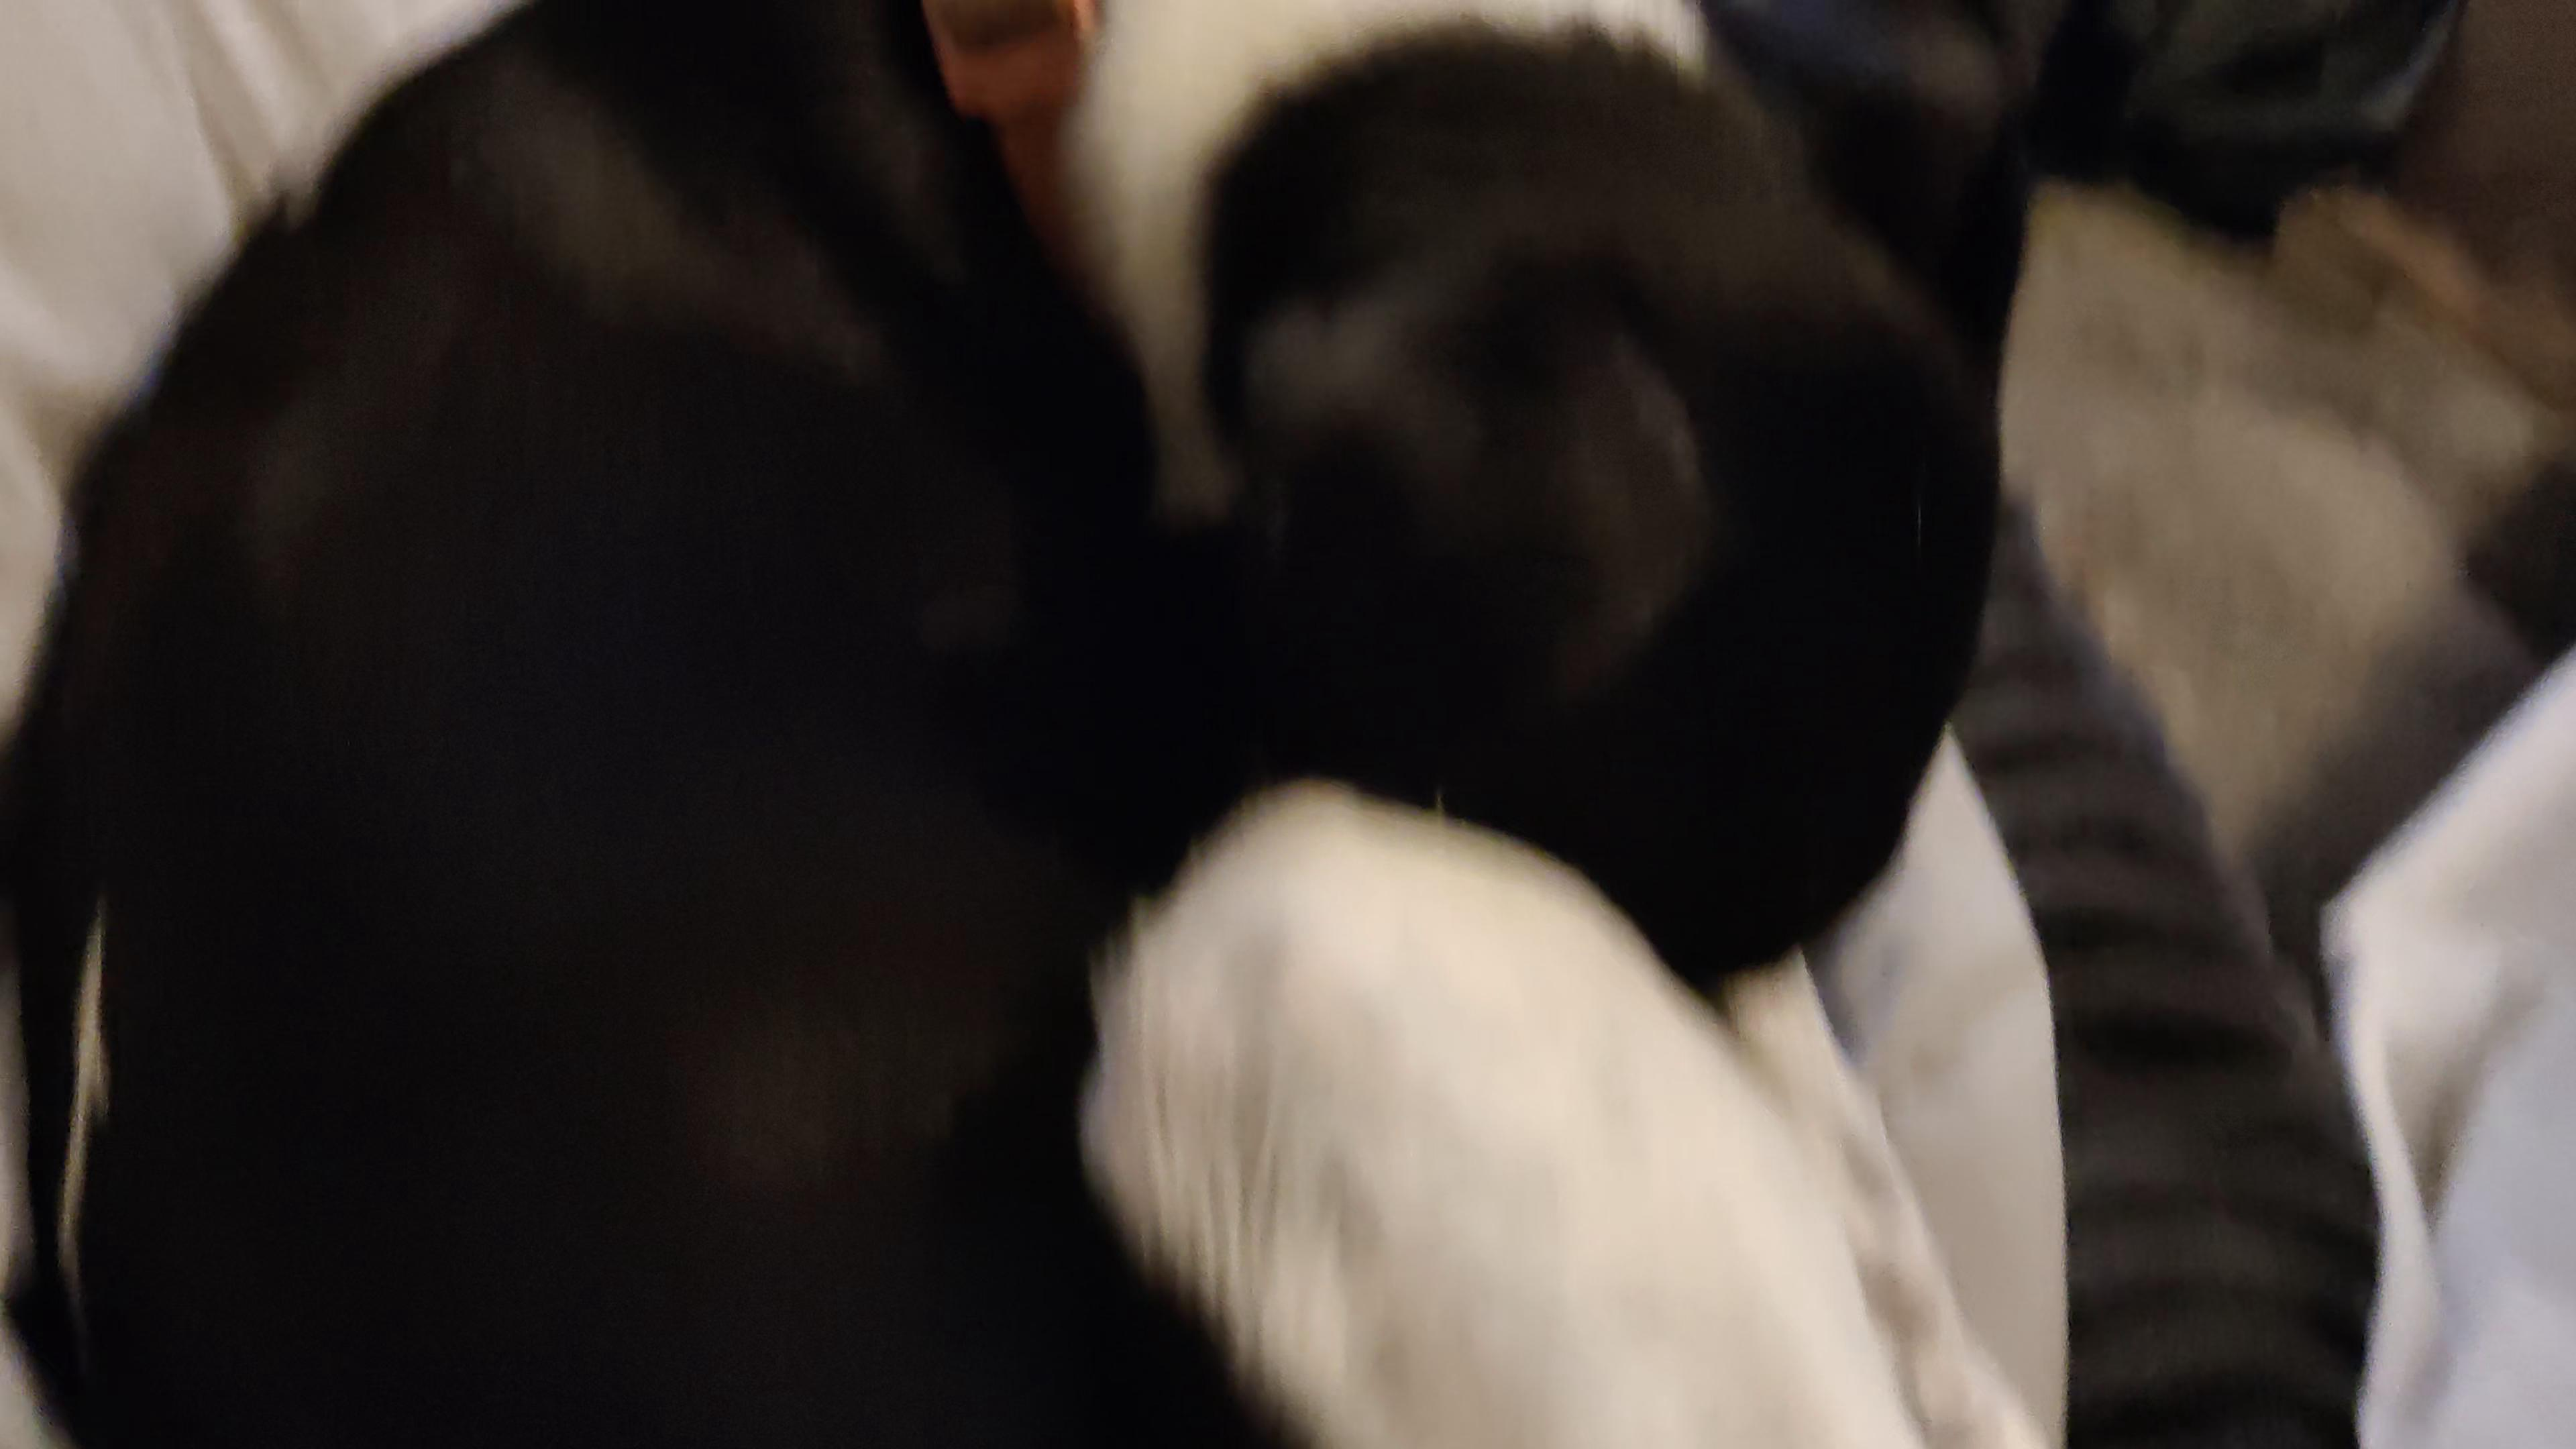Dog: (0, 0, 2063, 1449)
